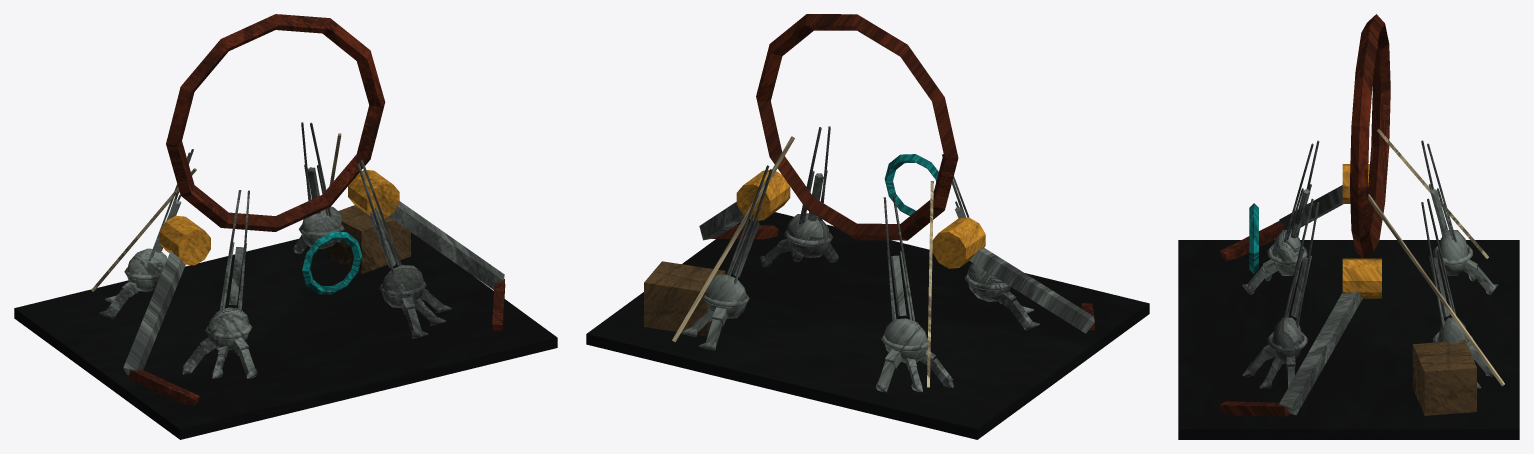
The model's file is claw-carcass-rig.glb.
3 views of the same model, side by side, from view 1: azimuth 30°, elevation 25°; view 2: azimuth 150°, elevation 25°; view 3: azimuth 270°, elevation 25° (orthographic). The views are drawn at different scales.
Parts seen in each view (by area): view 1: claw-carcass-rig; view 2: claw-carcass-rig; view 3: claw-carcass-rig.
Part boxes in pixels (x1=…): claw-carcass-rig: x1=14, y1=14, x2=557, y2=439; claw-carcass-rig: x1=586, y1=14, x2=1149, y2=439; claw-carcass-rig: x1=1178, y1=14, x2=1519, y2=439.
Size of the model in its own units: 8.5 by 6.63 by 6.4.
1 material, 1 textured.
